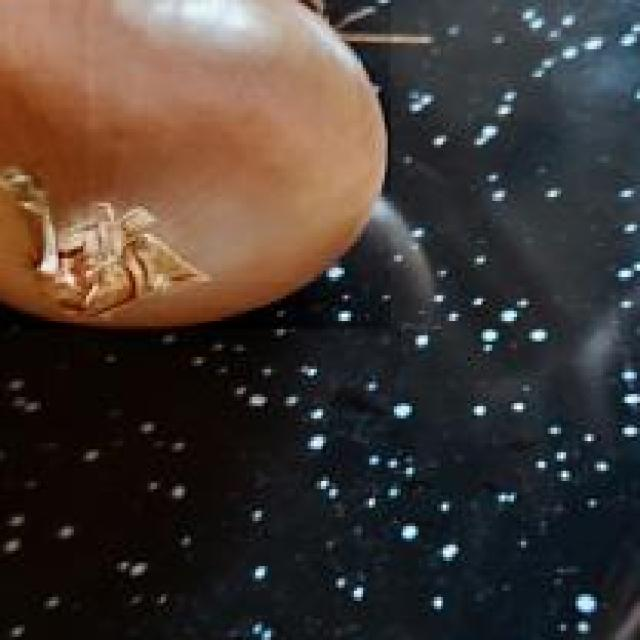onion: (0, 0, 394, 329)
